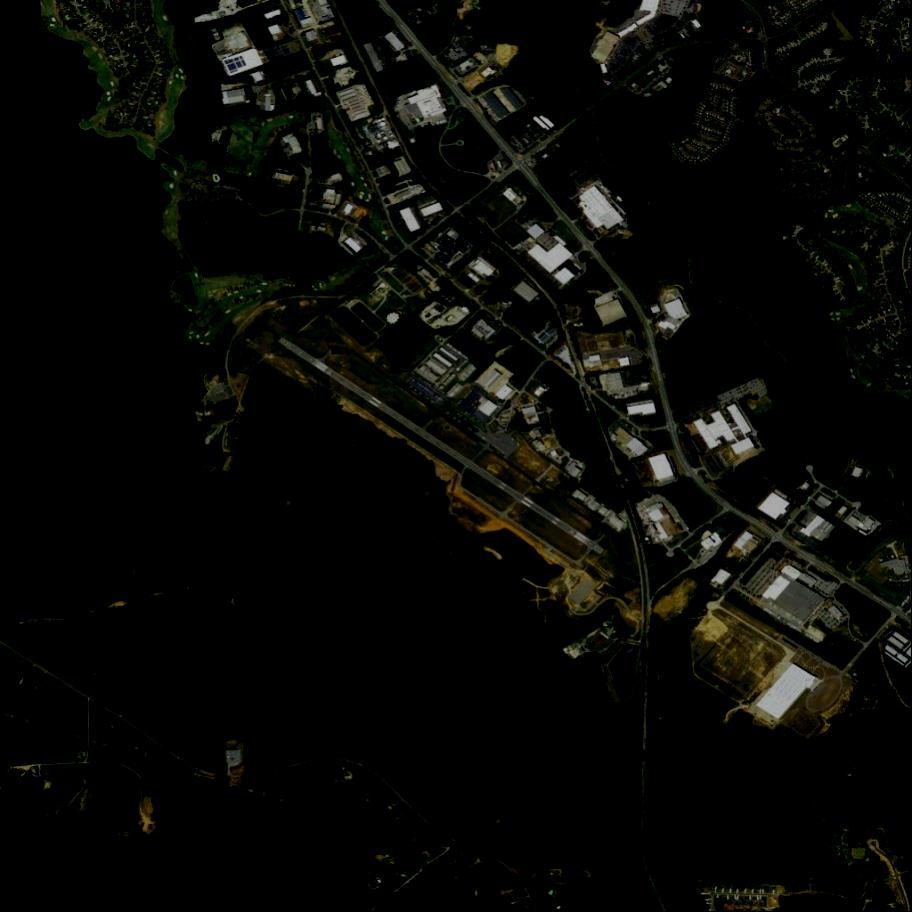storage-tank: (387, 309, 406, 326)
